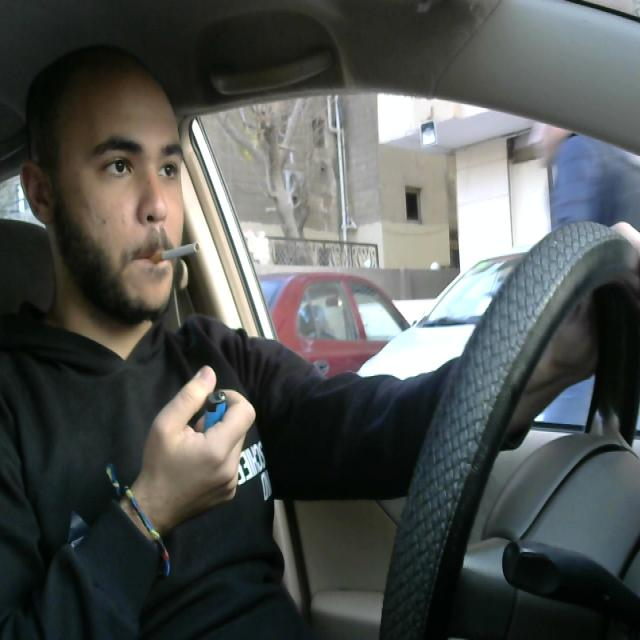smoking: (144, 231, 208, 274)
